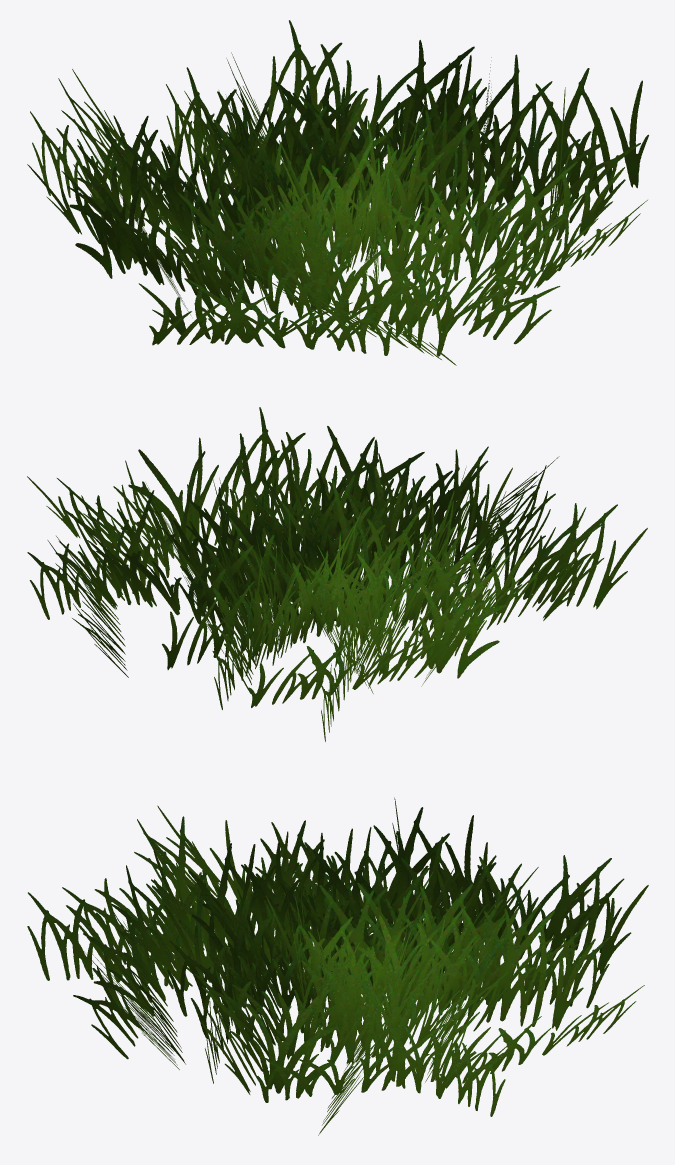
The picture shows the model from 3 angles, top to bottom: view 1: azimuth 30°, elevation 25°; view 2: azimuth 150°, elevation 25°; view 3: azimuth 270°, elevation 25°; orthographic projection. The views are drawn at different scales.
Visible parts, largest first — view 1: SM_BM_GrassShort_03_LOD0; view 2: SM_BM_GrassShort_03_LOD0; view 3: SM_BM_GrassShort_03_LOD0.
Part boxes in pixels (x1=…): SM_BM_GrassShort_03_LOD0: x1=27, y1=20, x2=648, y2=365; SM_BM_GrassShort_03_LOD0: x1=27, y1=407, x2=647, y2=741; SM_BM_GrassShort_03_LOD0: x1=27, y1=797, x2=648, y2=1135.
Size of the model in its own units: 1.12 by 0.3166 by 1.12.
1 material, 1 textured.
